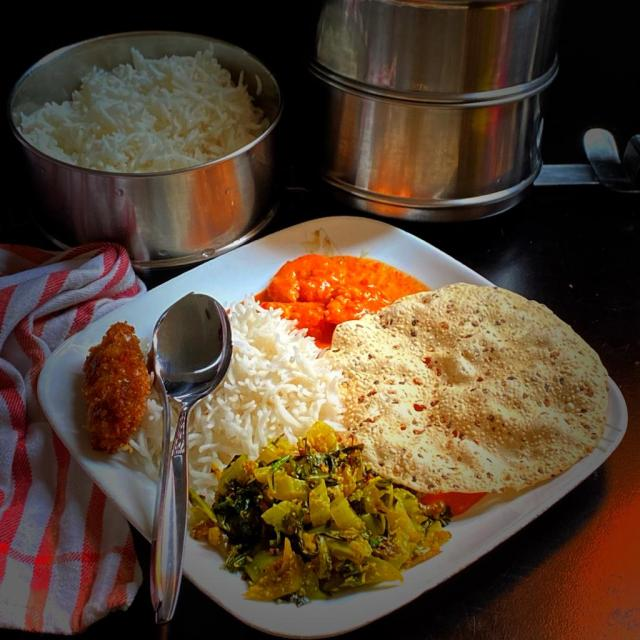veg meals: (64, 240, 626, 617)
